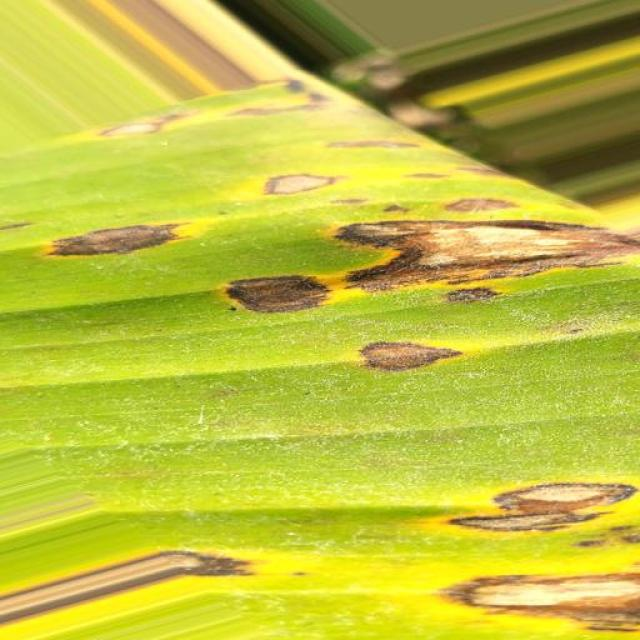Early_rust: (0, 86, 640, 640)
